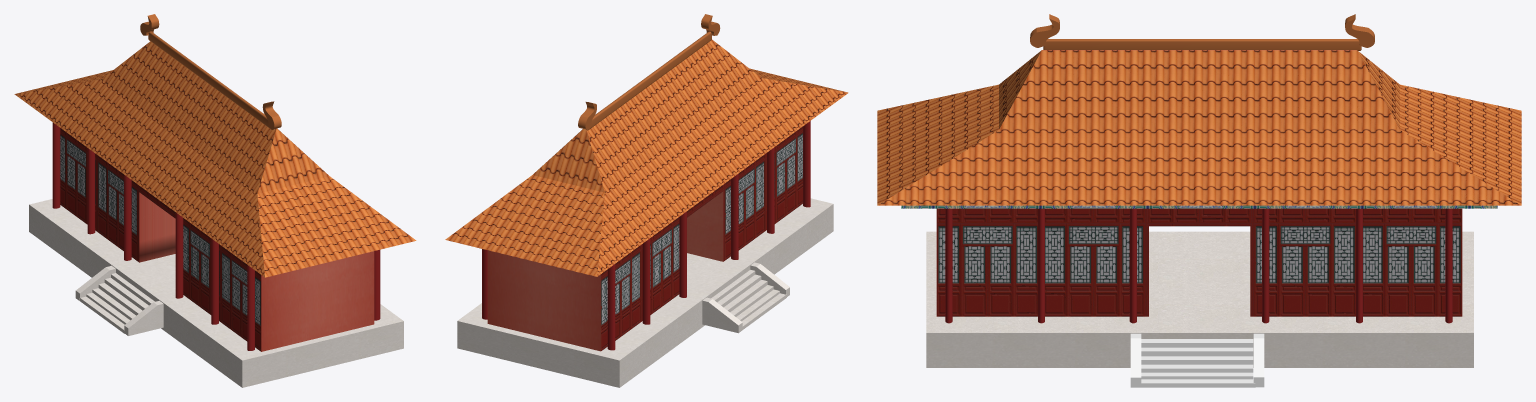
Rendered from xiao.FBX.
The picture shows the model from 3 angles, left to right: view 1: azimuth 30°, elevation 25°; view 2: azimuth 150°, elevation 25°; view 3: azimuth 270°, elevation 25°; orthographic projection. The views are drawn at different scales.
Visible parts, largest first — view 1: 12683, duixiang1276, duixiang1277; view 2: 12683, duixiang1276, duixiang1277; view 3: 12683, duixiang1276, duixiang1277.
Boxes of the visible parts, bbox=[...] form: 12683: bbox=[29, 14, 403, 387]; duixiang1276: bbox=[14, 41, 320, 277]; duixiang1277: bbox=[17, 70, 416, 277]; 12683: bbox=[457, 14, 833, 387]; duixiang1276: bbox=[542, 39, 848, 276]; duixiang1277: bbox=[445, 68, 846, 276]; 12683: bbox=[901, 14, 1497, 387]; duixiang1276: bbox=[878, 50, 1520, 205]; duixiang1277: bbox=[877, 50, 1521, 205].
Bounding box in the file's own units: 320 × 302 × 591.
Materials: 8 (5 with a texture image).
